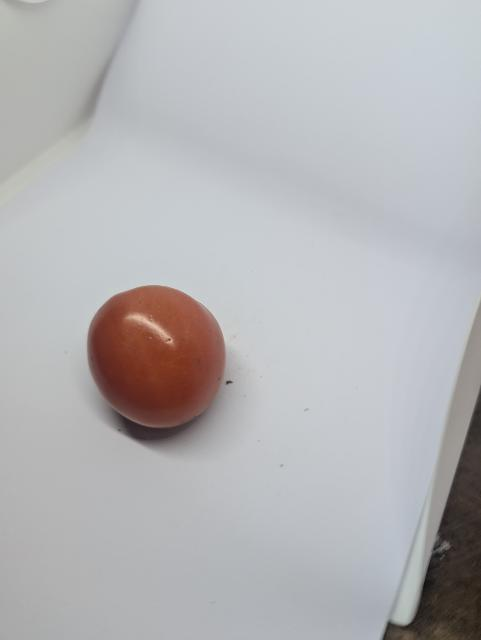red: (84, 280, 234, 440)
